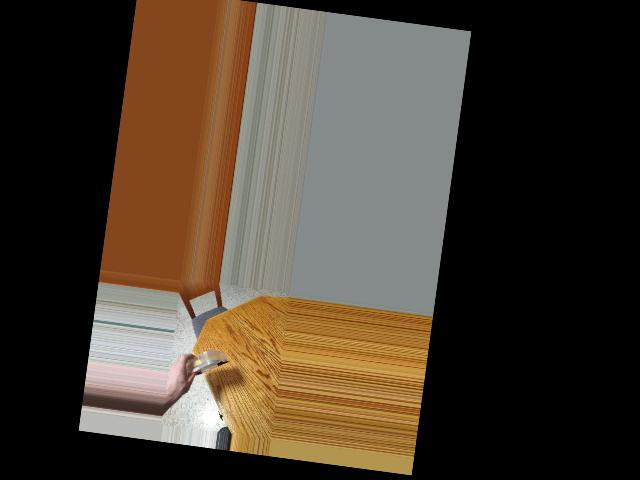cheese: (182, 345, 228, 378)
